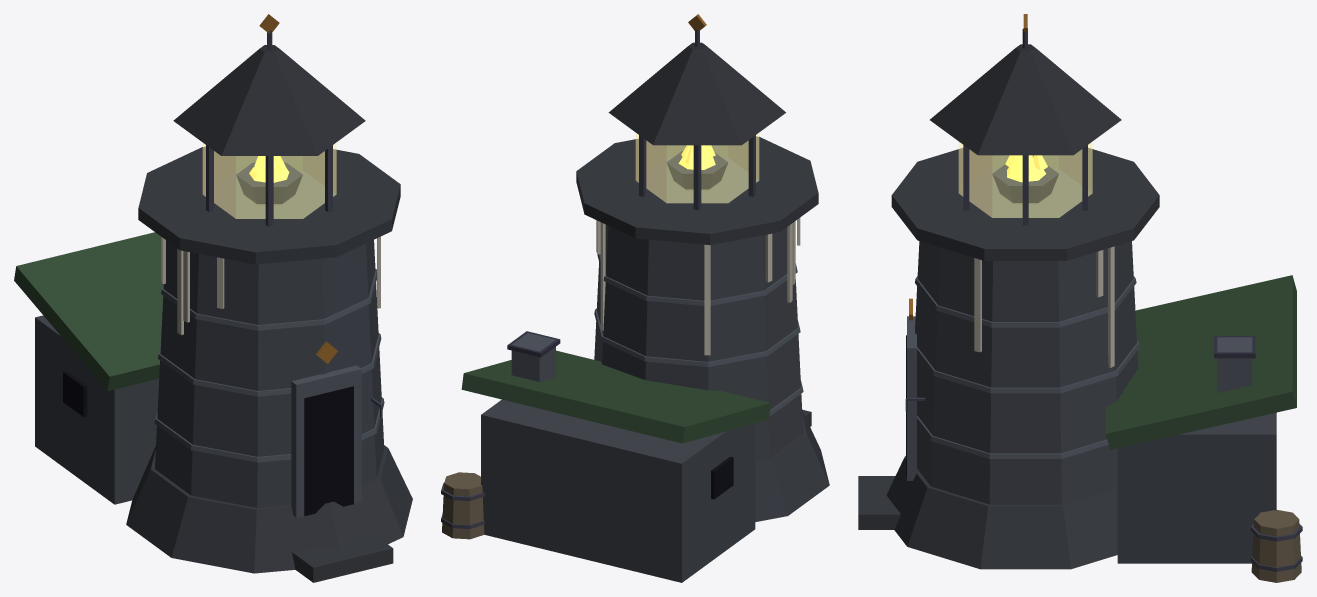
The model's file is lowsong_light_lit.glb.
The picture shows the model from 3 angles, left to right: view 1: azimuth 30°, elevation 25°; view 2: azimuth 150°, elevation 25°; view 3: azimuth 270°, elevation 25°; orthographic projection. The views are drawn at different scales.
Parts seen in each view (by area): view 1: slate_d42, slate_d52, moss_d45, slate_d60, slate_d30, kindle_glow_horn30, ink_d60, ink_l15, bone_d20, ink_d50, ember_glow; view 2: slate_d42, slate_d52, moss_d45, slate_d60, kindle_glow_horn30, slate_d30, ink_l15, bone_d20, driftwood_d50, ink_d50, ember_glow; view 3: slate_d42, slate_d52, moss_d45, slate_d60, slate_d30, kindle_glow_horn30, ink_l15, driftwood_d50, bone_d20, ember_glow.
Part boxes in pixels (left/top/right/bottom): slate_d42: left=35, top=240, right=384, bottom=507; slate_d52: left=126, top=146, right=412, bottom=582; moss_d45: left=14, top=232, right=163, bottom=391; slate_d60: left=173, top=45, right=365, bottom=155; slate_d30: left=154, top=268, right=384, bottom=517; kindle_glow_horn30: left=202, top=142, right=336, bottom=218; ink_d60: left=304, top=386, right=353, bottom=515; ink_l15: left=206, top=30, right=382, bottom=417; bone_d20: left=161, top=236, right=380, bottom=335; ink_d50: left=63, top=371, right=87, bottom=417; ember_glow: left=249, top=156, right=289, bottom=182; slate_d42: left=481, top=225, right=803, bottom=582; slate_d52: left=576, top=136, right=829, bottom=521; moss_d45: left=461, top=350, right=770, bottom=443; slate_d60: left=608, top=42, right=785, bottom=145; kindle_glow_horn30: left=635, top=133, right=759, bottom=203; slate_d30: left=511, top=254, right=803, bottom=416; ink_l15: left=441, top=29, right=755, bottom=528; bone_d20: left=596, top=218, right=800, bottom=355; driftwood_d50: left=442, top=472, right=484, bottom=539; ink_d50: left=711, top=456, right=733, bottom=499; ember_glow: left=678, top=145, right=715, bottom=169; slate_d42: left=915, top=241, right=1276, bottom=563; slate_d52: left=858, top=148, right=1159, bottom=569; moss_d45: left=1105, top=275, right=1296, bottom=449; slate_d60: left=930, top=44, right=1121, bottom=155; slate_d30: left=907, top=276, right=1252, bottom=480; kindle_glow_horn30: left=958, top=141, right=1092, bottom=217; ink_l15: left=905, top=28, right=1302, bottom=571; driftwood_d50: left=1251, top=510, right=1301, bottom=582; bone_d20: left=974, top=246, right=1114, bottom=367; ember_glow: left=1005, top=155, right=1047, bottom=182.
Size of the model in its own units: 3.72 by 6.55 by 5.31.
